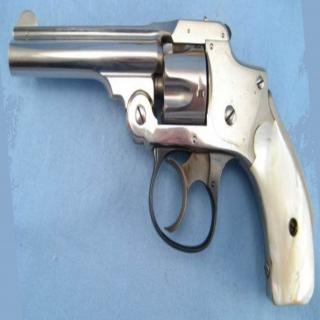gun: (8, 10, 311, 306)
